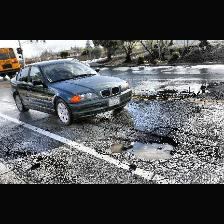pothole: (102, 134, 176, 160)
